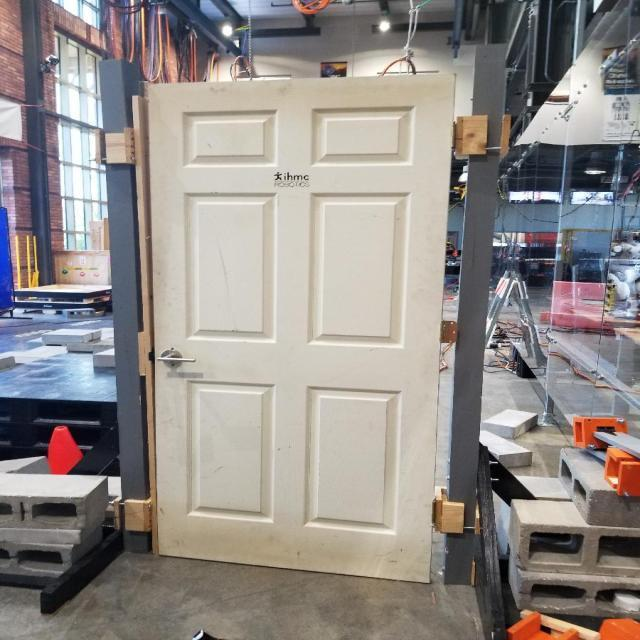door: (145, 70, 462, 588), (156, 350, 197, 368)
